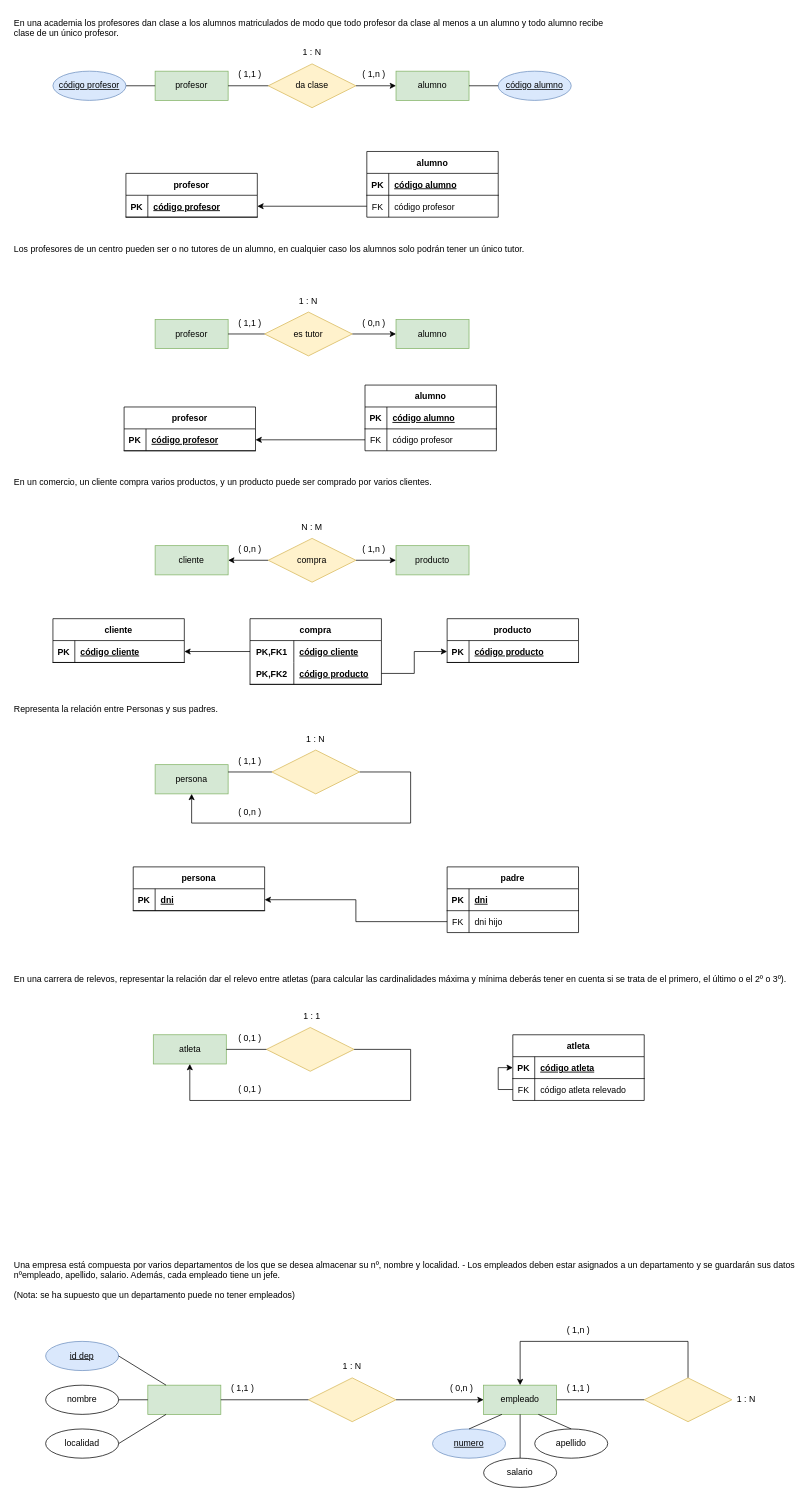
This 810x1500 diagram has some shape labels left out. Here are the shapes that lost their labels. From the top down, the centre of each, then its label:
the point at 315,771: es padre
the point at 310,1049: da relevo
the point at 184,1399: departamento
the point at 352,1399: pertenece
the point at 687,1399: es jefe
